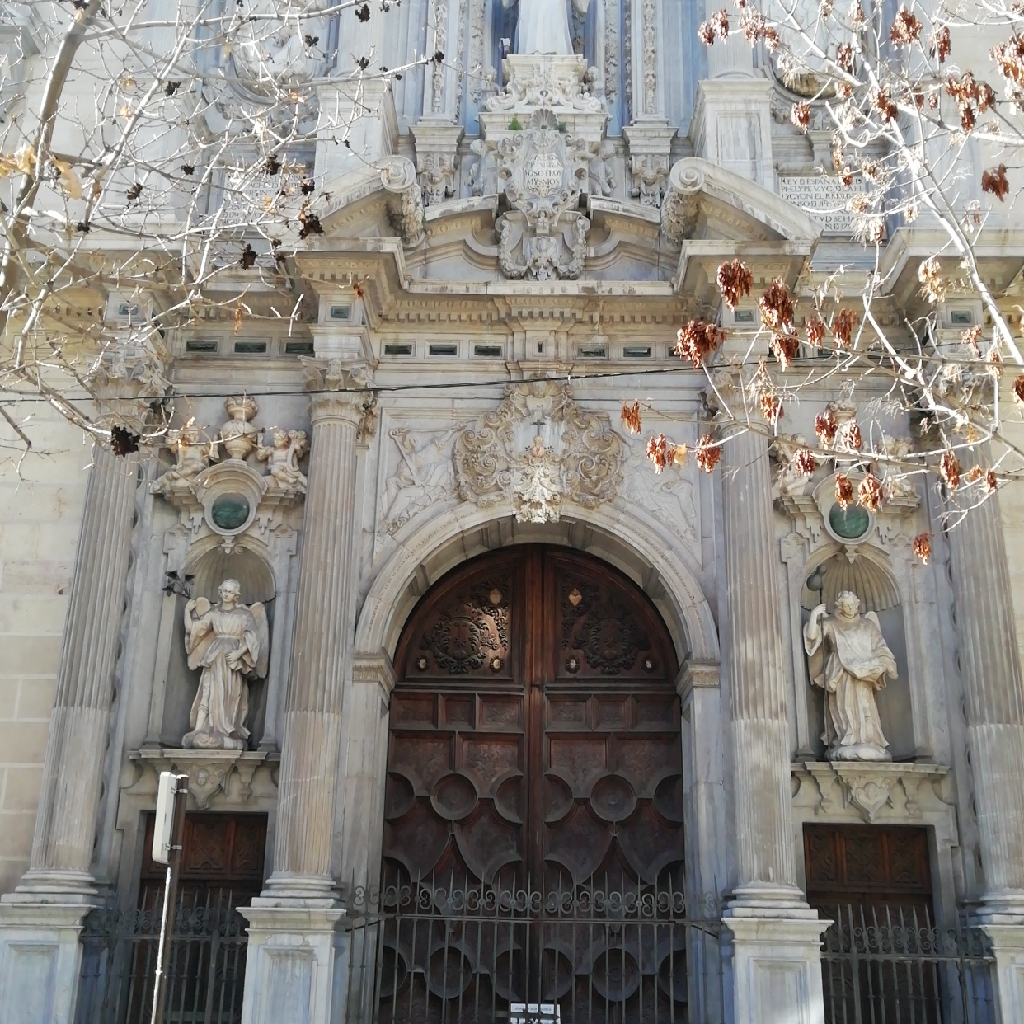arco-medio-punto: (373, 504, 707, 711)
fronton-partido: (280, 163, 814, 270)
